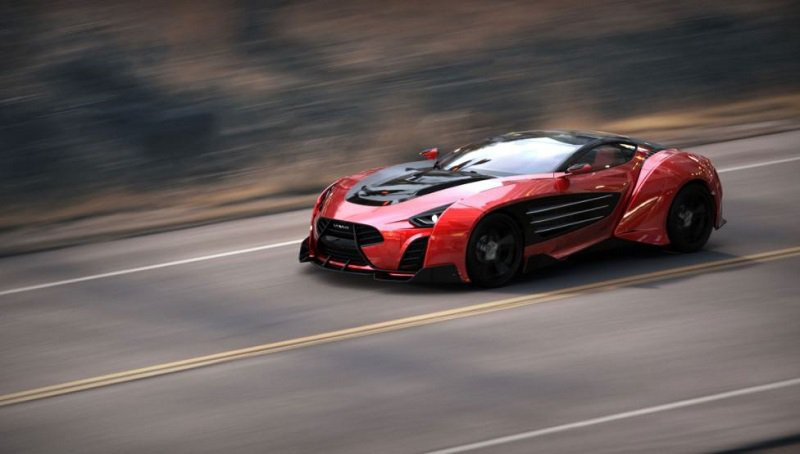car: (304, 123, 729, 290)
